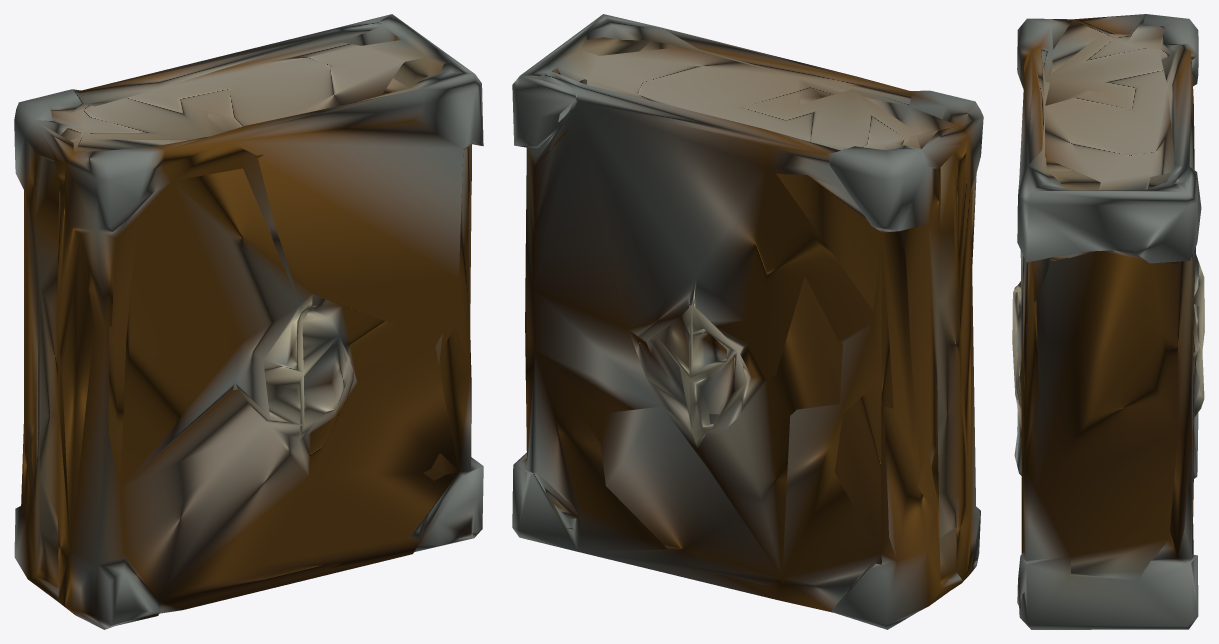
File: gen3d-spell-book-lod1.glb
The picture shows the model from 3 angles, left to right: view 1: azimuth 30°, elevation 25°; view 2: azimuth 150°, elevation 25°; view 3: azimuth 270°, elevation 25°; orthographic projection. The views are drawn at different scales.
Parts seen in each view (by area): view 1: part_0; view 2: part_0; view 3: part_0.
Part boxes in pixels (x1,y1,x2,y2): part_0: (14, 14, 483, 629); part_0: (512, 14, 983, 629); part_0: (1012, 14, 1204, 629).
Bounding box in the file's own units: 0.8862 × 0.9988 × 0.3926.
